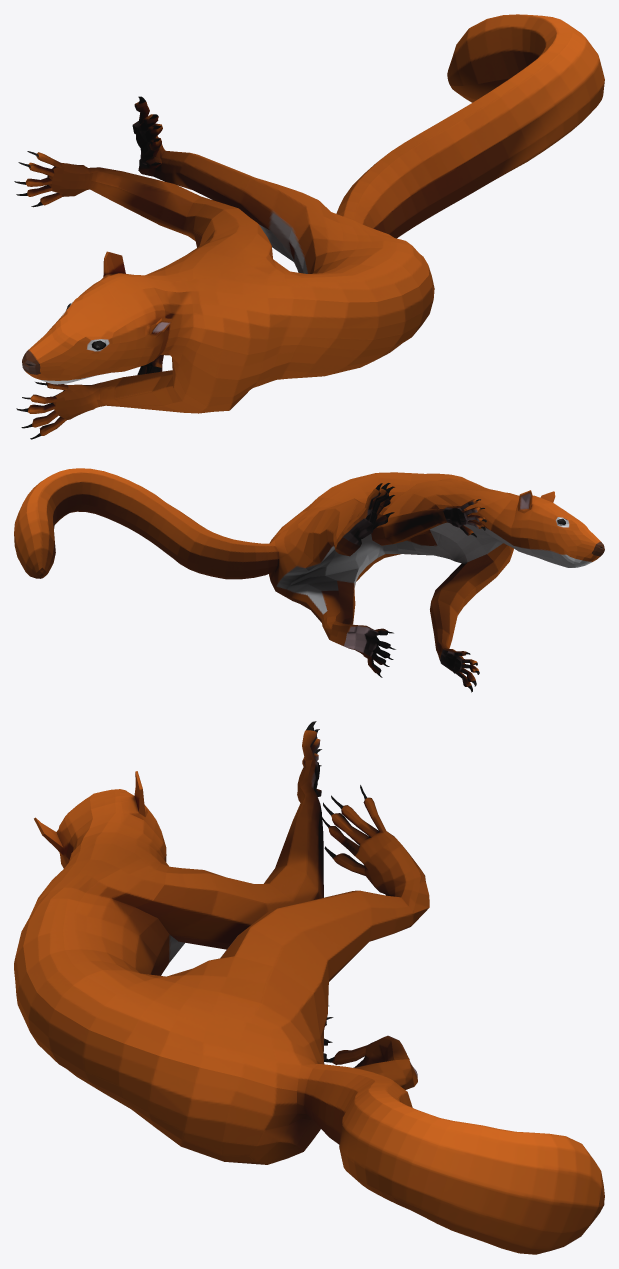
Rendered from plesiadapis.glb.
3 renders of one model, top to bottom at view 1: azimuth 30°, elevation 25°; view 2: azimuth 150°, elevation 25°; view 3: azimuth 270°, elevation 25°, orthographic. The views are drawn at different scales.
Size of the model in its own units: 0.5811 by 0.2303 by 0.3597.
Materials: 1 (1 with a texture image).
